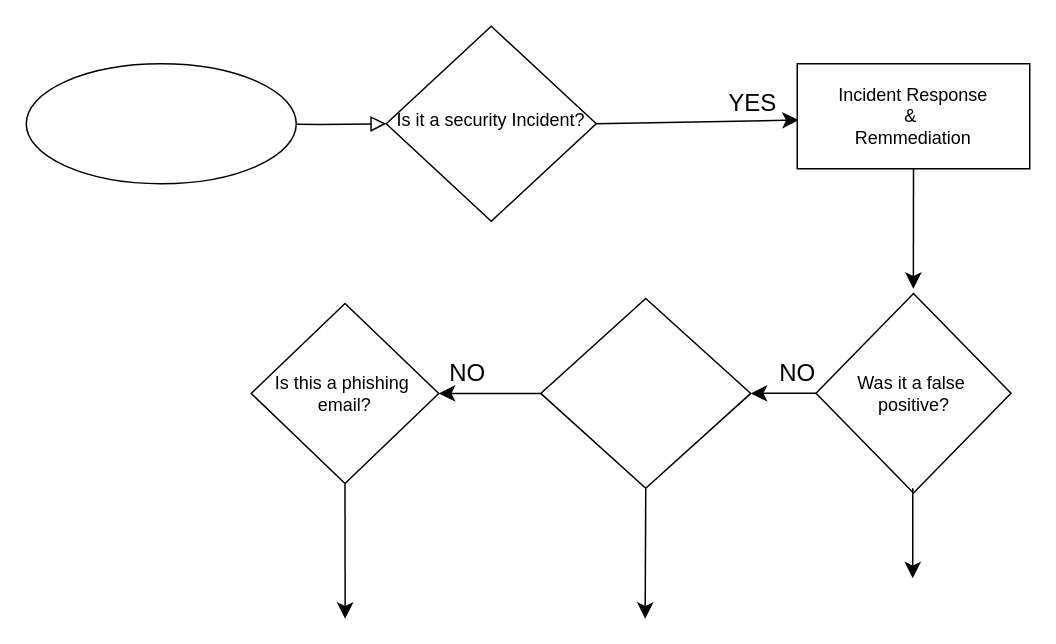
The diagram is 1056 pixels wide and 644 high, and some of its shapes have lost their labels. Each missing label, with the box of its shape:
Is this a malware?: (539, 297, 751, 488)
Suspecious Event Detected: (25, 62, 296, 184)
